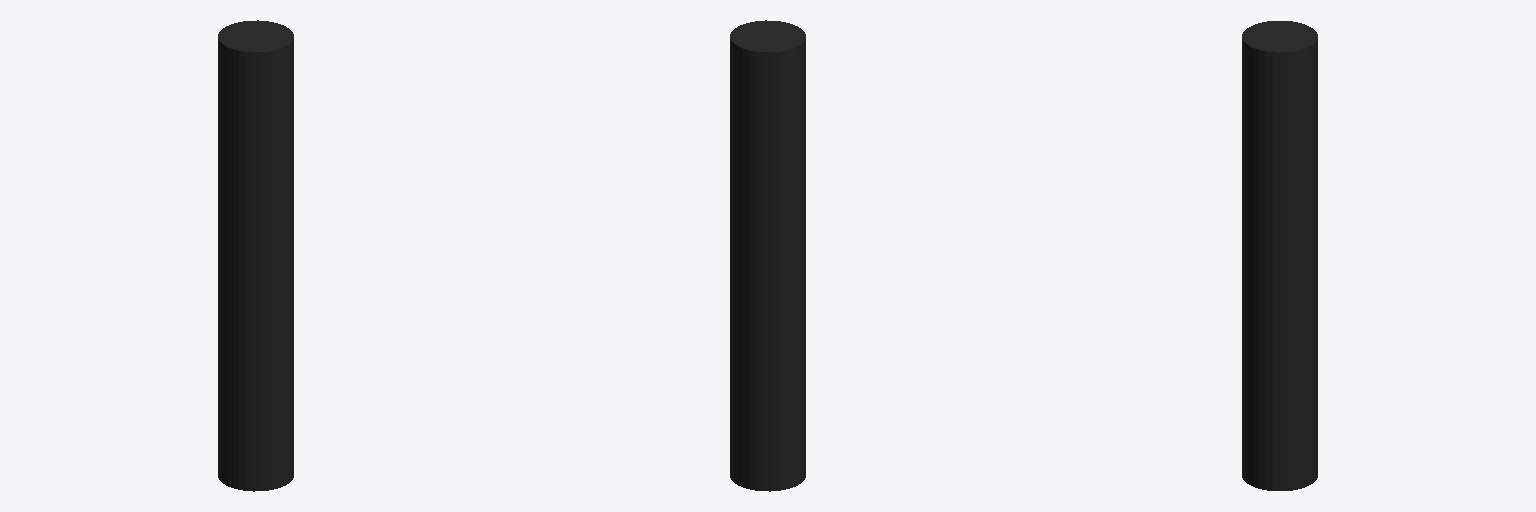
The robot description file, URDF, robot "lbr_iiwa":
<?xml version="1.0" ?>
<!-- ======================================================================= -->
<!-- | This document was autogenerated by xacro from lbr_iiwa.urdf.xacro   | -->
<!-- | Original xacro: https://github.com/rtkg/lbr_iiwa/archive/master.zip | -->
<!-- | EDITING THIS FILE BY HAND IS NOT RECOMMENDED                        | -->
<!-- | Changes ([author]):                                                 | -->
<!-- |   * Removed gazebo tags.                                            | -->
<!-- |   * Removed unused materials.                                       | -->
<!-- |   * Made mesh paths relative.                                       | -->
<!-- |   * Removed material fields from collision segments.                | -->
<!-- |   * Removed the self_collision_checking segment.                    | -->
<!-- |   * Removed transmission segments, since they didn't match the      | -->
<!-- |     convention, will have to added back later.                      | -->
<!-- ======================================================================= -->
<!--LICENSE:                                                                 -->
<!--Copyright (c) 2015, [author] & [author], AASS Research Center,  -->
<!--Orebro University, Sweden                                                -->
<!--All rights reserved.                                                     -->
<!--                                                                         -->
<!--Redistribution and use in source and binary forms, with or without       -->
<!--modification, are permitted provided that the following conditions are   -->
<!--met:                                                                     -->
<!--                                                                         -->
<!--1. Redistributions of source code must retain the above copyright notice,-->
<!--   this list of conditions and the following disclaimer.                 -->
<!--                                                                         -->
<!--2. Redistributions in binary form must reproduce the above copyright     -->
<!--   notice, this list of conditions and the following disclaimer in the   -->
<!--   documentation and/or other materials provided with the distribution.  -->
<!--                                                                         -->
<!--THIS SOFTWARE IS PROVIDED BY THE COPYRIGHT [author] "AS  -->
<!--IS" AND ANY EXPRESS OR IMPLIED WARRANTIES, INCLUDING, BUT NOT LIMITED TO,-->
<!--THE IMPLIED WARRANTIES OF MERCHANTABILITY AND FITNESS FOR A PARTICULAR   -->
<!--PURPOSE ARE DISCLAIMED. IN NO EVENT SHALL THE COPYRIGHT [author]        -->
<!--CONTRIBUTORS BE LIABLE FOR ANY DIRECT, INDIRECT, INCIDENTAL, SPECIAL,    -->
<!--EXEMPLARY, OR CONSEQUENTIAL DAMAGES (INCLUDING, BUT NOT LIMITED TO,      -->
<!--PROCUREMENT OF SUBSTITUTE GOODS OR SERVICES; LOSS OF USE, DATA, OR       -->
<!--PROFITS; OR BUSINESS INTERRUPTION) HOWEVER CAUSED AND ON ANY THEORY OF   -->
<!--LIABILITY, WHETHER IN CONTRACT, STRICT LIABILITY, OR TORT (INCLUDING     -->
<!--NEGLIGENCE OR OTHERWISE) ARISING IN ANY WAY OUT OF THE USE OF THIS       -->
<!--SOFTWARE, EVEN IF ADVISED OF THE POSSIBILITY OF SUCH DAMAGE.             -->
<robot name="lbr_iiwa" xmlns:xacro="http://www.ros.org/wiki/xacro">
  <!-- Import Rviz colors -->
  <material name="Grey">
    <color rgba="0.2 0.2 0.2 1.0"/>
  </material>
  <material name="Orange">
    <color rgba="1.0 0.423529411765 0.0392156862745 1.0"/>
  </material>
  <material name="Blue">
  <color rgba="0.5 0.7 1.0 1.0"/>      
</material>

  <!--Import the lbr iiwa macro -->
  <!--Import Transmissions -->
  <!--Include Utilities -->
  <!--The following macros are adapted from the LWR 4 definitions of the RCPRG - https://github.com/RCPRG-ros-pkg/lwr_robot -->
  <!--Little helper macros to define the inertia matrix needed for links.-->
  <!--Cuboid-->
  <!--Cylinder: length is along the y-axis! -->
  <!--lbr-->
  <link name="lbr_iiwa_link_0">
    <inertial>
      <origin rpy="0 0 0" xyz="-0.1 0 0.07"/>
      <!--Increase mass from 5 Kg original to provide a stable base to carry the
          arm.-->
      <mass value="0.0"/>
      <inertia ixx="0.05" ixy="0" ixz="0" iyy="0.06" iyz="0" izz="0.03"/>
    </inertial>
    <visual>
      <origin rpy="0 0 0" xyz="0 0 0"/>
      <geometry>
        <mesh filename="meshes/link_0.obj"/>
      </geometry>
      <material name="Grey"/>
    </visual>
    <collision>
      <origin rpy="0 0 0" xyz="0 0 0"/>
      <geometry>
        <mesh filename="meshes/link_0.stl"/>
      </geometry>
    </collision>
  </link>
  <!-- joint between link_0 and link_1 -->
  <joint name="lbr_iiwa_joint_1" type="revolute">
    <parent link="lbr_iiwa_link_0"/>
    <child link="lbr_iiwa_link_1"/>
    <origin rpy="0 0 0" xyz="0 0 0.1575"/>
    <axis xyz="0 0 1"/>
    <limit effort="300" lower="-2.96705972839" upper="2.96705972839" velocity="10"/>
    <dynamics damping="0.5"/>
  </joint>
  <link name="lbr_iiwa_link_1">
    <inertial>
      <origin rpy="0 0 0" xyz="0 -0.03 0.12"/>
      <mass value="4"/>
      <inertia ixx="0.1" ixy="0" ixz="0" iyy="0.09" iyz="0" izz="0.02"/>
    </inertial>
    <visual>
      <origin rpy="0 0 0" xyz="0 0 0"/>
      <geometry>
        <mesh filename="meshes/link_1.obj"/>
      </geometry>
      <material name="Blue"/>
    </visual>
    <collision>
      <origin rpy="0 0 0" xyz="0 0 0"/>
      <geometry>
        <mesh filename="meshes/link_1.stl"/>
      </geometry>
    </collision>
  </link>
  <!-- joint between link_1 and link_2 -->
  <joint name="lbr_iiwa_joint_2" type="revolute">
    <parent link="lbr_iiwa_link_1"/>
    <child link="lbr_iiwa_link_2"/>
    <origin rpy="1.57079632679   0 3.14159265359" xyz="0 0 0.2025"/>
    <axis xyz="0 0 1"/>
    <limit effort="300" lower="-2.09439510239" upper="2.09439510239" velocity="10"/>
    <dynamics damping="0.5"/>
  </joint>
  <link name="lbr_iiwa_link_2">
    <inertial>
      <origin rpy="0 0 0" xyz="0.0003 0.059 0.042"/>
      <mass value="4"/>
      <inertia ixx="0.05" ixy="0" ixz="0" iyy="0.018" iyz="0" izz="0.044"/>
    </inertial>
    <visual>
      <origin rpy="0 0 0" xyz="0 0 0"/>
      <geometry>
        <mesh filename="meshes/link_2.obj"/>
      </geometry>
      <material name="Blue"/>
    </visual>
    <collision>
      <origin rpy="0 0 0" xyz="0 0 0"/>
      <geometry>
        <mesh filename="meshes/link_2.stl"/>
      </geometry>
    </collision>
  </link>
  <!-- joint between link_2 and link_3 -->
  <joint name="lbr_iiwa_joint_3" type="revolute">
    <parent link="lbr_iiwa_link_2"/>
    <child link="lbr_iiwa_link_3"/>
    <origin rpy="1.57079632679 0 3.14159265359" xyz="0 0.2045 0"/>
    <axis xyz="0 0 1"/>
    <limit effort="300" lower="-2.96705972839" upper="2.96705972839" velocity="10"/>
    <dynamics damping="0.5"/>
  </joint>
  <link name="lbr_iiwa_link_3">
    <inertial>
      <origin rpy="0 0 0" xyz="0 0.03 0.13"/>
      <mass value="3"/>
      <inertia ixx="0.08" ixy="0" ixz="0" iyy="0.075" iyz="0" izz="0.01"/>
    </inertial>
    <visual>
      <origin rpy="0 0 0" xyz="0 0 0"/>
      <geometry>
        <mesh filename="meshes/link_3.obj"/>
      </geometry>
      <material name="Orange"/>
    </visual>
    <collision>
      <origin rpy="0 0 0" xyz="0 0 0"/>
      <geometry>
        <mesh filename="meshes/link_3.stl"/>
      </geometry>
    </collision>
  </link>
  <!-- joint between link_3 and link_4 -->
  <joint name="lbr_iiwa_joint_4" type="revolute">
    <parent link="lbr_iiwa_link_3"/>
    <child link="lbr_iiwa_link_4"/>
    <origin rpy="1.57079632679 0 0" xyz="0 0 0.2155"/>
    <axis xyz="0 0 1"/>
    <limit effort="300" lower="-2.09439510239" upper="2.09439510239" velocity="10"/>
    <dynamics damping="0.5"/>
  </joint>
  <link name="lbr_iiwa_link_4">
    <inertial>
      <origin rpy="0 0 0" xyz="0 0.067 0.034"/>
      <mass value="2.7"/>
      <inertia ixx="0.03" ixy="0" ixz="0" iyy="0.01" iyz="0" izz="0.029"/>
    </inertial>
    <visual>
      <origin rpy="0 0 0" xyz="0 0 0"/>
      <geometry>
        <mesh filename="meshes/link_4.obj"/>
      </geometry>
      <material name="Blue"/>
    </visual>
    <collision>
      <origin rpy="0 0 0" xyz="0 0 0"/>
      <geometry>
        <mesh filename="meshes/link_4.stl"/>
      </geometry>
    </collision>
  </link>
  <!-- joint between link_4 and link_5 -->
  <joint name="lbr_iiwa_joint_5" type="revolute">
    <parent link="lbr_iiwa_link_4"/>
    <child link="lbr_iiwa_link_5"/>
    <origin rpy="-1.57079632679 3.14159265359 0" xyz="0 0.1845 0"/>
    <axis xyz="0 0 1"/>
    <limit effort="300" lower="-2.96705972839" upper="2.96705972839" velocity="10"/>
    <dynamics damping="0.5"/>
  </joint>
  <link name="lbr_iiwa_link_5">
    <inertial>
      <origin rpy="0 0 0" xyz="0.0001 0.021 0.076"/>
      <mass value="1.7"/>
      <inertia ixx="0.02" ixy="0" ixz="0" iyy="0.018" iyz="0" izz="0.005"/>
    </inertial>
    <visual>
      <origin rpy="0 0 0" xyz="0 0 0"/>
      <geometry>
        <mesh filename="meshes/link_5.obj"/>
      </geometry>
      <material name="Blue"/>
    </visual>
    <collision>
      <origin rpy="0 0 0" xyz="0 0 0"/>
      <geometry>
        <mesh filename="meshes/link_5.stl"/>
      </geometry>
    </collision>
  </link>
  <!-- joint between link_5 and link_6 -->
  <joint name="lbr_iiwa_joint_6" type="revolute">
    <parent link="lbr_iiwa_link_5"/>
    <child link="lbr_iiwa_link_6"/>
    <origin rpy="1.57079632679 0 0" xyz="0 0 0.2155"/>
    <axis xyz="0 0 1"/>
    <limit effort="300" lower="-2.09439510239" upper="2.09439510239" velocity="10"/>
    <dynamics damping="0.5"/>
  </joint>
  <link name="lbr_iiwa_link_6">
    <inertial>
      <origin rpy="0 0 0" xyz="0 0.0006 0.0004"/>
      <mass value="1.8"/>
      <inertia ixx="0.005" ixy="0" ixz="0" iyy="0.0036" iyz="0" izz="0.0047"/>
    </inertial>
    <visual>
      <origin rpy="0 0 0" xyz="0 0 0"/>
      <geometry>
        <mesh filename="meshes/link_6.obj"/>
      </geometry>
      <material name="Orange"/>
    </visual>
    <collision>
      <origin rpy="0 0 0" xyz="0 0 0"/>
      <geometry>
        <mesh filename="meshes/link_6.stl"/>
      </geometry>
    </collision>
  </link>
  <!-- joint between link_6 and link_7 -->
  <joint name="lbr_iiwa_joint_7" type="revolute">
    <parent link="lbr_iiwa_link_6"/>
    <child link="lbr_iiwa_link_7"/>
    <origin rpy="-1.57079632679 3.14159265359 0" xyz="0 0.081 0"/>
    <axis xyz="0 0 1"/>
    <limit effort="300" lower="-3.05432619099" upper="3.05432619099" velocity="10"/>
    <dynamics damping="0.5"/>
  </joint>
  <link name="lbr_iiwa_link_7">
    <inertial>
      <origin rpy="0 0 0" xyz="0 0 0.02"/>
      <mass value="0.3"/>
      <inertia ixx="0.001" ixy="0" ixz="0" iyy="0.001" iyz="0" izz="0.001"/>
    </inertial>
    <visual>
      <origin rpy="0 0 0" xyz="0 0 0"/>
      <geometry>
        <mesh filename="meshes/link_7.obj"/>
      </geometry>
      <material name="Grey"/>
    </visual>
    <collision>
      <origin rpy="0 0 0" xyz="0 0 0"/>
      <geometry>
        <mesh filename="meshes/link_7.stl"/>
      </geometry>
    </collision>
  </link>
    <!--  Here we define a dummy joint between the tip of the iiwa7 and the base of the tool. 
  There is no offset between the two, that means the tool is attached at the robot flange. -->
  <joint name="iiwa_joint_ee" type="revolute">
    <parent link="lbr_iiwa_link_7"/>
    <child link="iiwa_link_ee"/>
    <origin rpy="0 0 0" xyz="0 0 0.045"/>
    <axis xyz="1 0 0"/>
    <limit lower="0" upper="0"/>
    <dynamics damping="0.5"/>
  </joint>
  <!-- Here we define the geometry of the tool. We designed the tool ourselves, so we have a mesh file that represents it.   
  Else, one can define it using a geometric representation that approximate it, like a cylinder (see commented lines) -->
  <link name="iiwa_link_ee">
    <contact>
      <lateral_friction value="0.25"/>
      <spinning_friction value=".001"/>
    </contact>
    <!-- <inertial>
      <origin rpy="0 0 0" xyz="0 0.0006 0.0004"/>
      <mass value="1"/>
      <inertia ixx="0.005" ixy="0" ixz="0" iyy="0.0036" iyz="0" izz="0.0047"/>
    </inertial> -->
    <visual>
      <origin rpy="0 0 0" xyz="0 0 0"/>
      <geometry>
        <!-- <mesh filename="meshes/tool.stl"/> -->
        	<cylinder length="0.1275" radius="0.010"/>
      </geometry>
      <material name="Grey"/>
    </visual>
    <collision>
      <origin rpy="0 0 0" xyz="0 0 0"/>
      <geometry>
        <!-- <mesh filename="meshes/tool.stl"/> -->
        	<cylinder length="0.1275" radius="0.010"/>
      </geometry>
      <material name="Grey"/>
    </collision>
  </link>
</robot>

--- Render facts (derived) ---
The picture shows the robot from 3 angles, left to right: view 1: azimuth 30°, elevation 25°; view 2: azimuth 150°, elevation 25°; view 3: azimuth 270°, elevation 25°; orthographic projection.
Robot: lbr_iiwa — 9 links, 8 joints (8 revolute); root link lbr_iiwa_link_0; default pose: all joints at 0.
Visible links, largest first — view 1: iiwa_link_ee; view 2: iiwa_link_ee; view 3: iiwa_link_ee.
Boxes of the visible links, bbox=[...] form: iiwa_link_ee: bbox=[218, 20, 293, 491]; iiwa_link_ee: bbox=[730, 20, 805, 491]; iiwa_link_ee: bbox=[1242, 21, 1317, 490].
Size in the robot's own frame: 0.02 by 0.02 by 0.1275 metres.
0 mesh visuals loaded from 8 distinct referenced files (none loaded); not drawn: 8 (reference not matched to a file when rendering).